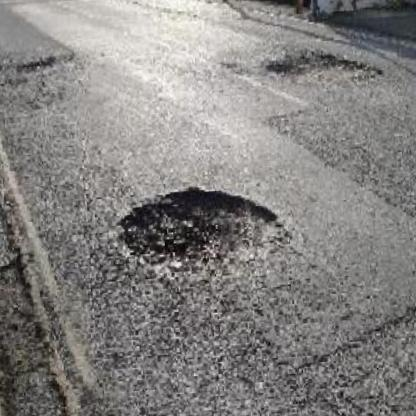pothole: (110, 175, 294, 286), (265, 42, 386, 89)
